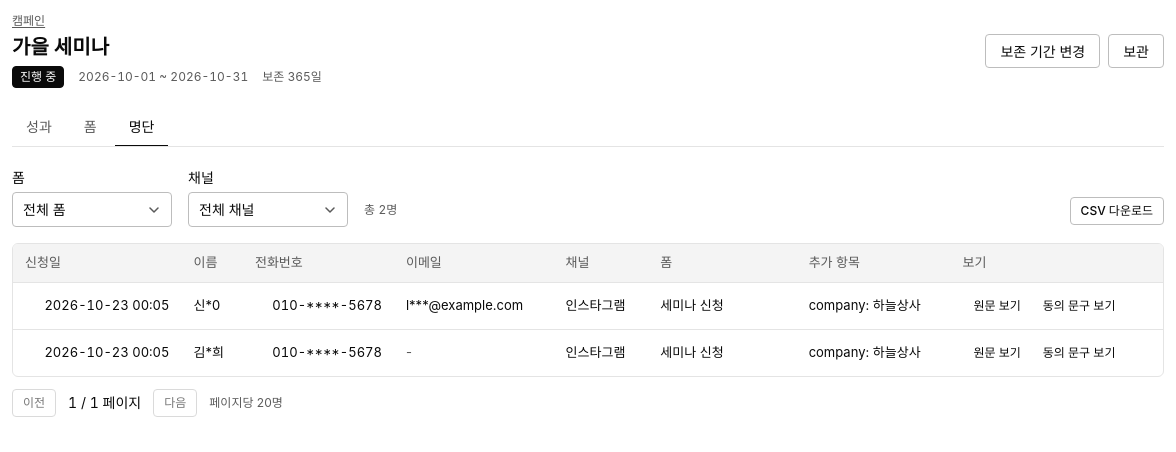
원문 보기 › 원문을 불러오지 못하면 그 줄에 오류를 보여주고 가린 값을 유지한다
This screenshot has width=1176, height=452.
Click the button "원문 보기" in the row of "신*0": (997, 306) x1=962 y1=292 x2=1032 y2=320
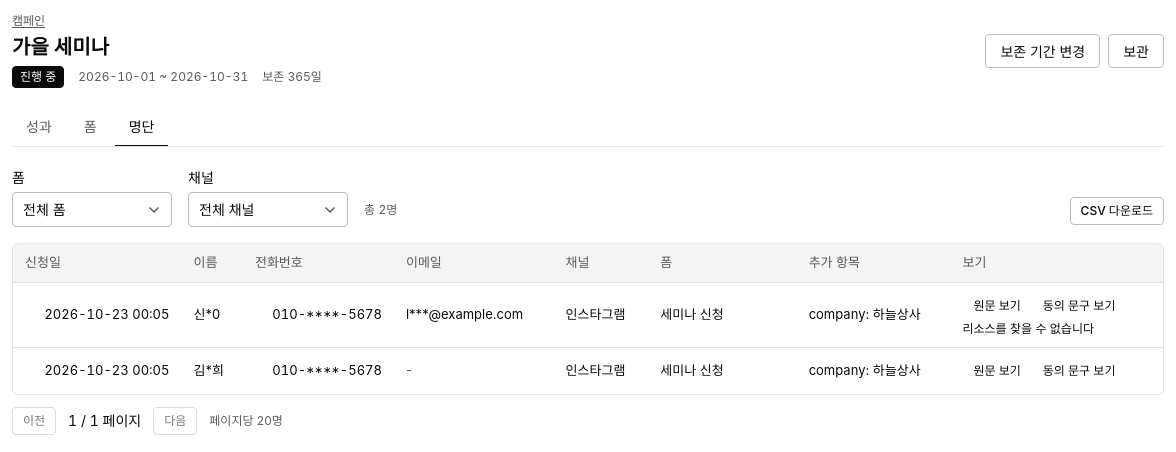
Expected: the text "010-****-5678" next to "신*0" is shown, x1=272 y1=306 x2=382 y2=322
Result: the message reads "리소스를 찾을 수 없습니다" at x1=962 y1=320 x2=1094 y2=336
